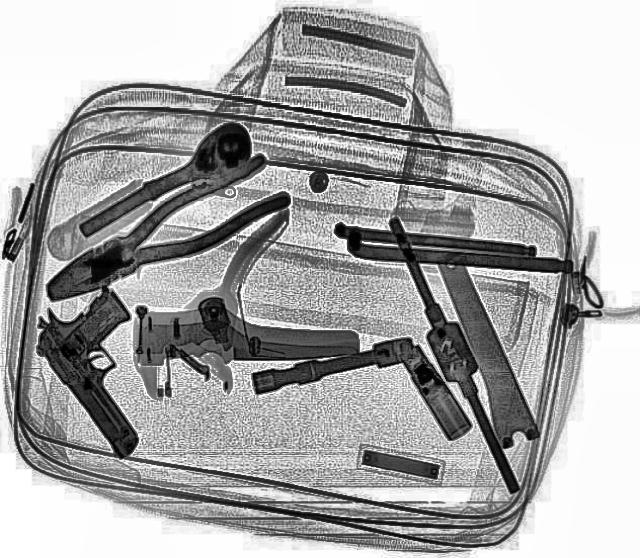Gun: (12, 277, 210, 457)
Pliers: (28, 149, 298, 320)
